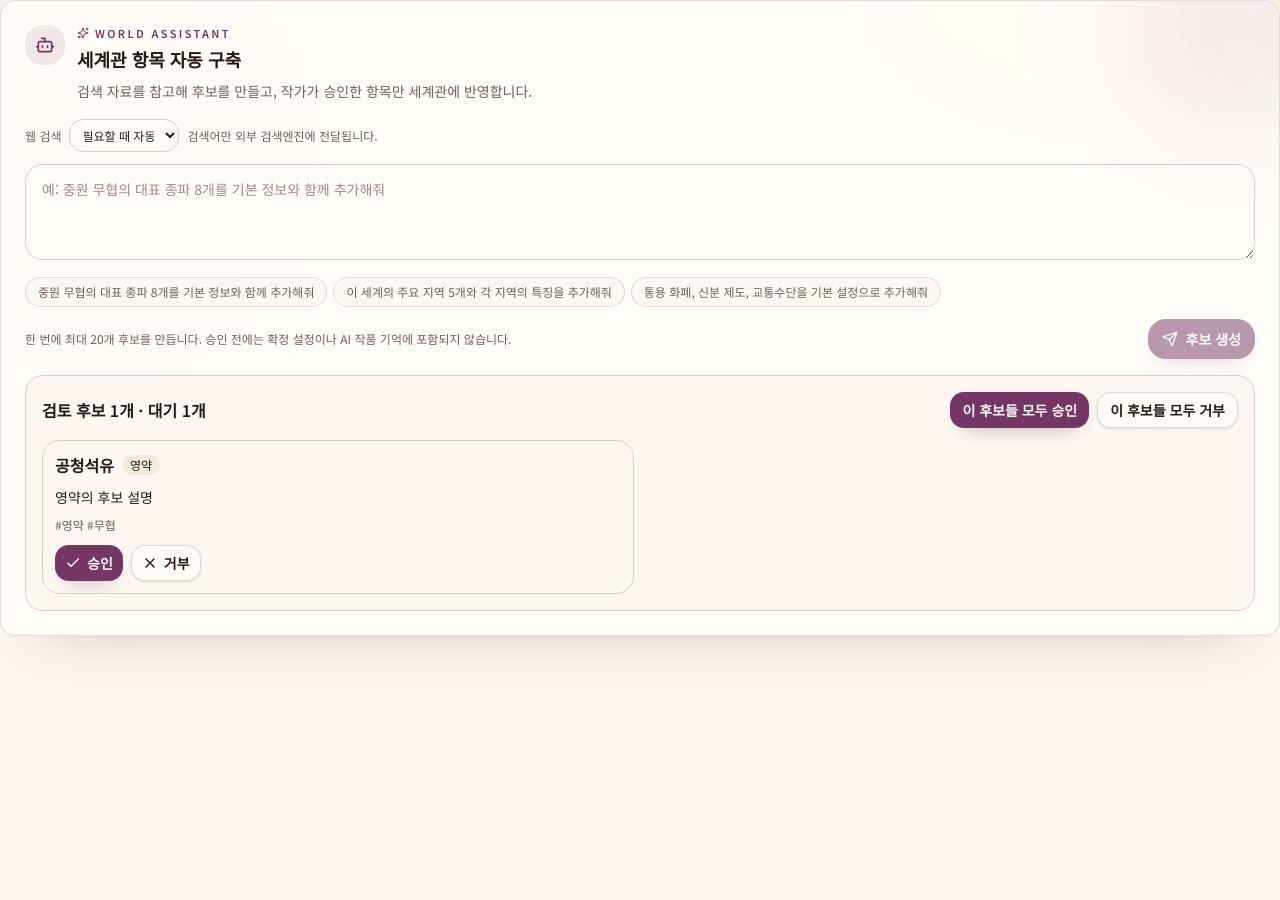
Test: WorldBuilderAssistant review flow › keeps a pending draft available for retry when saving approval fails
This screenshot has width=1280, height=900.
Click the button "승인" at coordinates (89, 563), box x1=55 y1=545 x2=123 y2=581
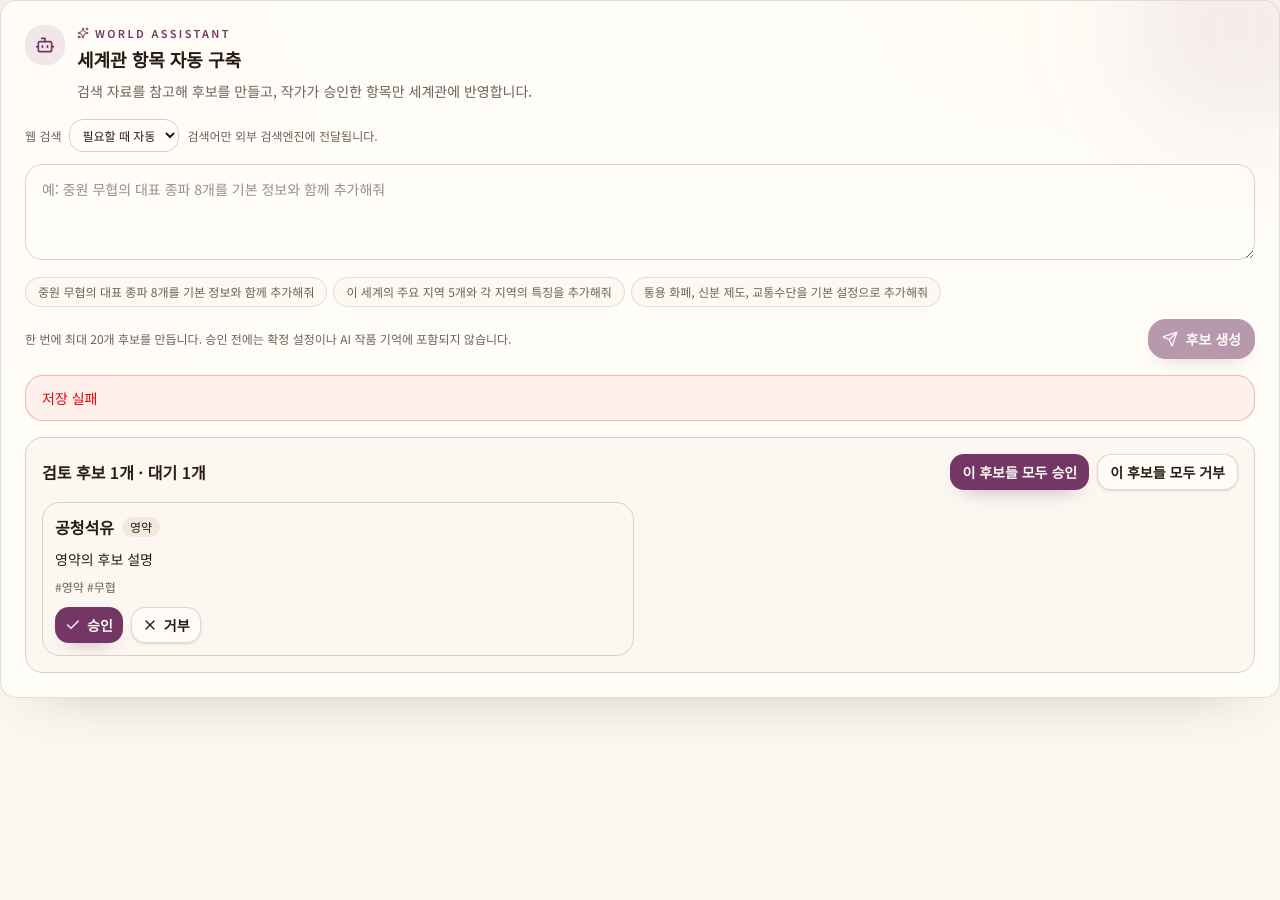
expect the button "승인" is enabled: met, box x1=55 y1=607 x2=123 y2=643
expect the text "저장 실패" is shown: met, box x1=25 y1=375 x2=1255 y2=421
